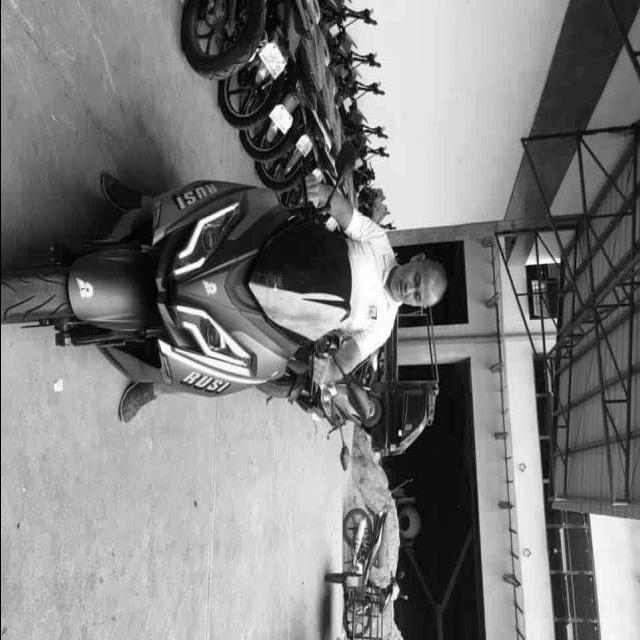motorcycle: (1, 147, 447, 430)
